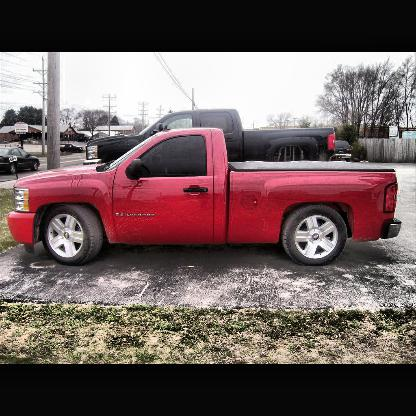Chevrolet Silverado 1500 Regular Cab 2012: (7, 126, 403, 268)
